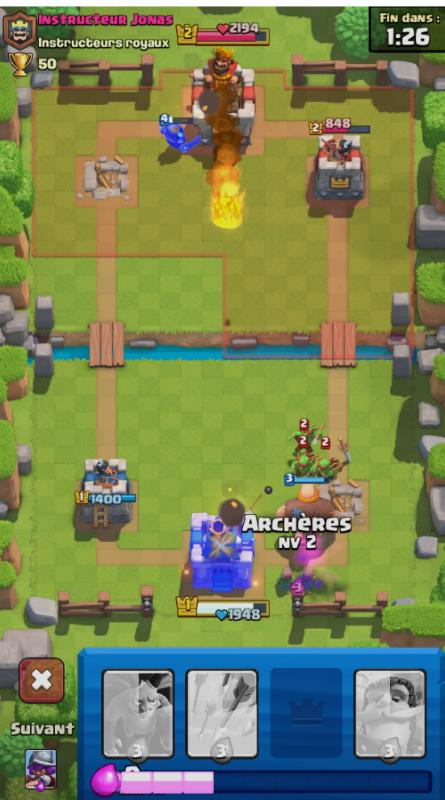geant: (266, 475, 346, 545)
gobelin_lances: (311, 448, 340, 484), (289, 422, 323, 452), (291, 447, 314, 479)
mini_PEKKA: (154, 116, 207, 162)
